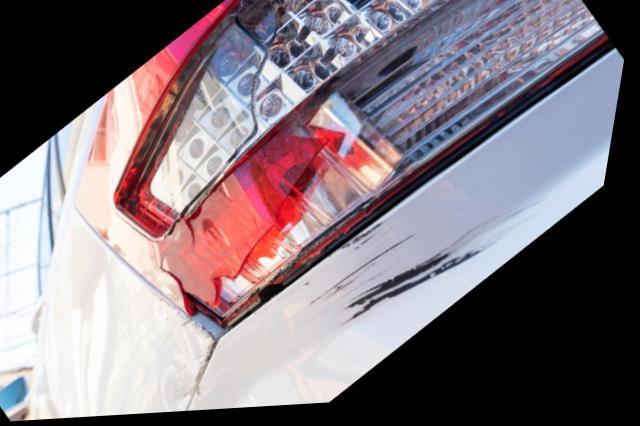lamp broken: (82, 0, 619, 345)
scratch: (305, 198, 559, 338), (160, 297, 230, 399)
